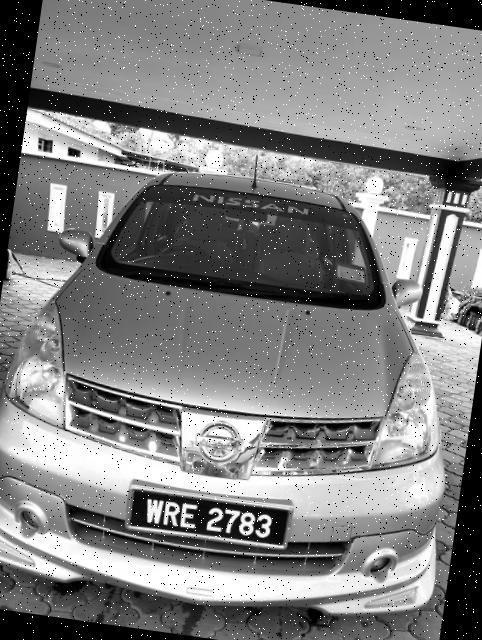License_Plate: (131, 488, 287, 546)
car: (1, 143, 482, 635)
